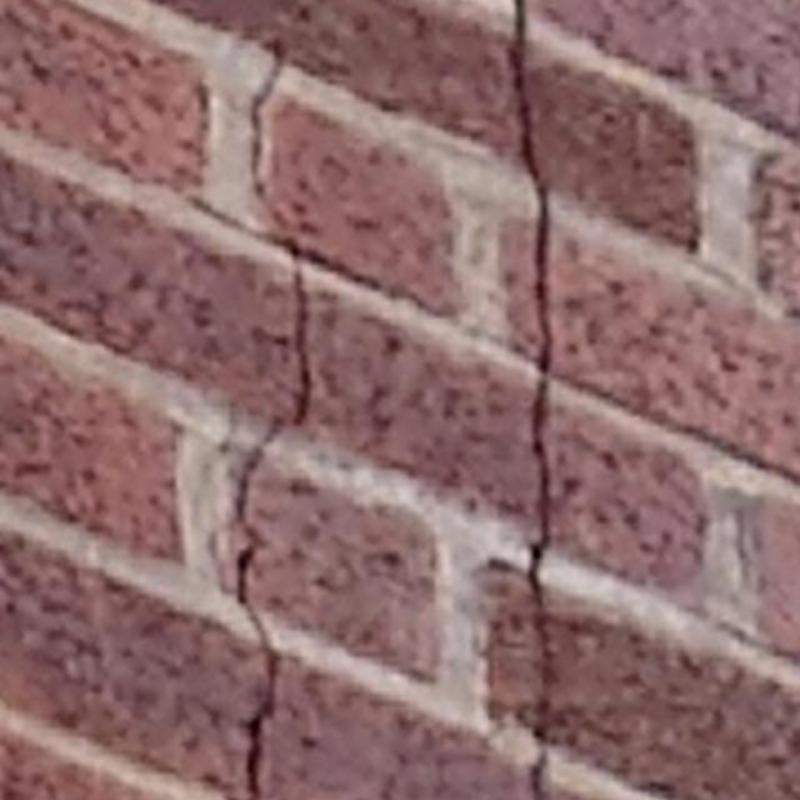pothole: (511, 0, 553, 800), (236, 547, 277, 713), (284, 239, 312, 424), (234, 417, 281, 523), (250, 52, 284, 193), (247, 716, 262, 799)
